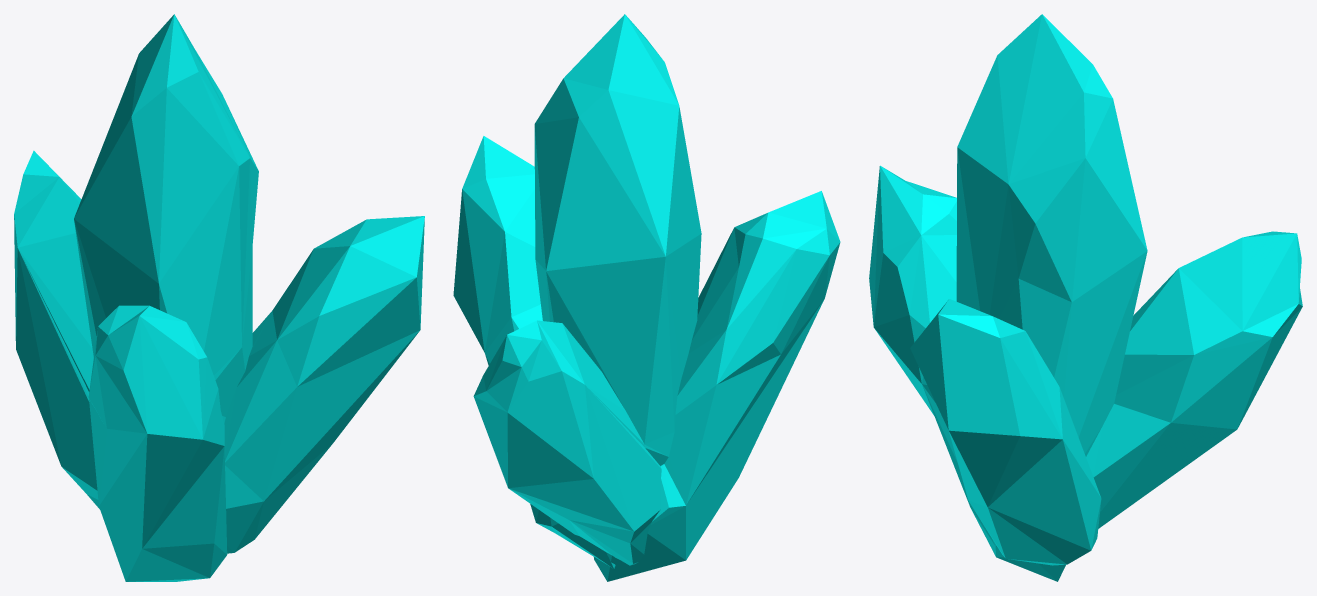
The model's file is CrystalCluster_4.fbx.
3 renders of one model, left to right at view 1: azimuth 30°, elevation 25°; view 2: azimuth 150°, elevation 25°; view 3: azimuth 270°, elevation 25°, orthographic. The views are drawn at different scales.
Visible parts, largest first — view 1: CrystalCluster_5; view 2: CrystalCluster_5; view 3: CrystalCluster_5.
Part boxes in pixels (x1,y1,x2,y2): CrystalCluster_5: [14, 14, 424, 581]; CrystalCluster_5: [453, 14, 840, 581]; CrystalCluster_5: [869, 14, 1302, 581].
Size of the model in its own units: 97.56 by 157 by 109.
